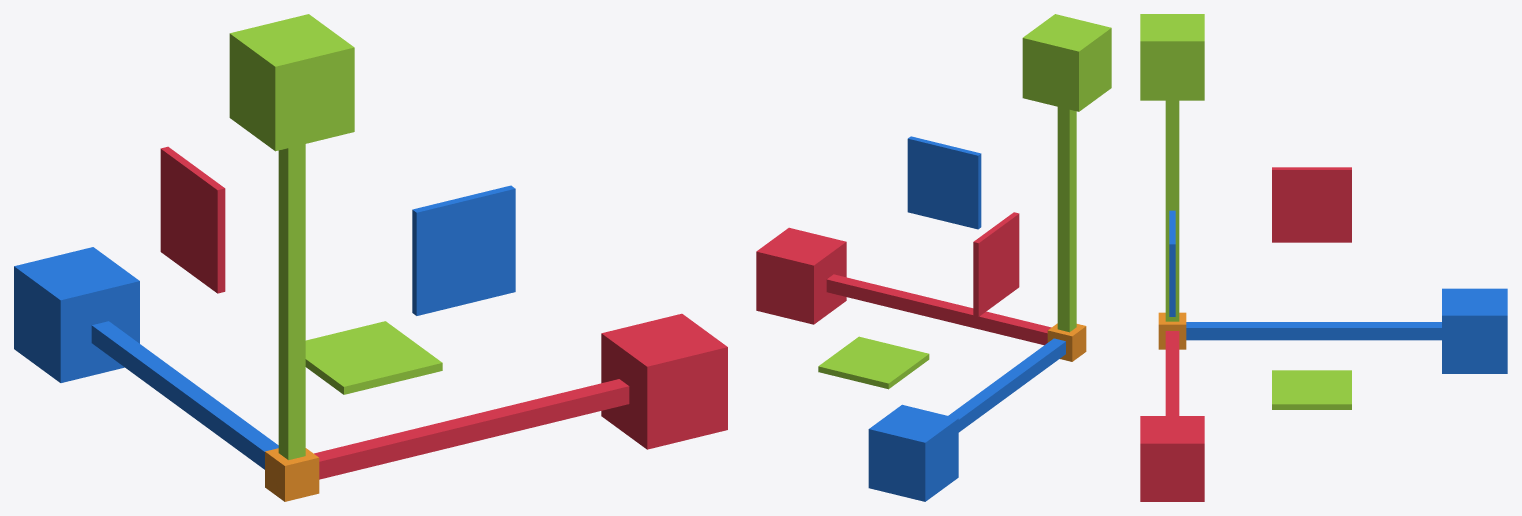
File: Scale.fbx
3 views of the same model, side by side, from view 1: azimuth 30°, elevation 25°; view 2: azimuth 150°, elevation 25°; view 3: azimuth 270°, elevation 25° (orthographic). The views are drawn at different scales.
Parts seen in each view (by area): view 1: Y, X, Z, XY, YZ, XZ, XYZ; view 2: Y, X, Z, XY, YZ, XZ, XYZ; view 3: Z, Y, X, YZ, XZ, XY, XYZ.
Part boxes in pixels (bbox=[...]): Y: bbox=[229, 14, 354, 460]; X: bbox=[314, 313, 727, 479]; Z: bbox=[14, 247, 278, 469]; XY: bbox=[412, 185, 515, 315]; YZ: bbox=[160, 146, 225, 293]; XZ: bbox=[305, 321, 442, 394]; XYZ: bbox=[265, 448, 319, 501]; Y: bbox=[1022, 14, 1111, 332]; X: bbox=[756, 227, 1051, 345]; Z: bbox=[868, 338, 1065, 501]; XY: bbox=[907, 136, 981, 229]; YZ: bbox=[973, 212, 1019, 316]; XZ: bbox=[818, 336, 929, 389]; XYZ: bbox=[1047, 323, 1086, 361]; Z: bbox=[1186, 288, 1507, 373]; Y: bbox=[1140, 14, 1204, 321]; X: bbox=[1140, 331, 1204, 501]; YZ: bbox=[1272, 167, 1351, 242]; XZ: bbox=[1272, 370, 1351, 409]; XY: bbox=[1169, 210, 1175, 316]; XYZ: bbox=[1158, 312, 1186, 349].
Bounding box in the file's own units: 263 × 263 × 263.
